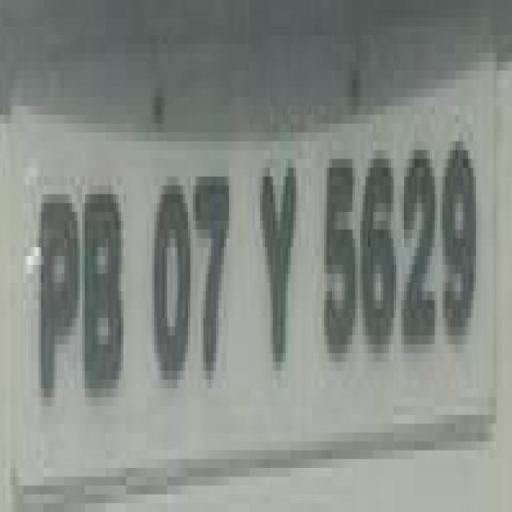number plate: (7, 17, 480, 485)
